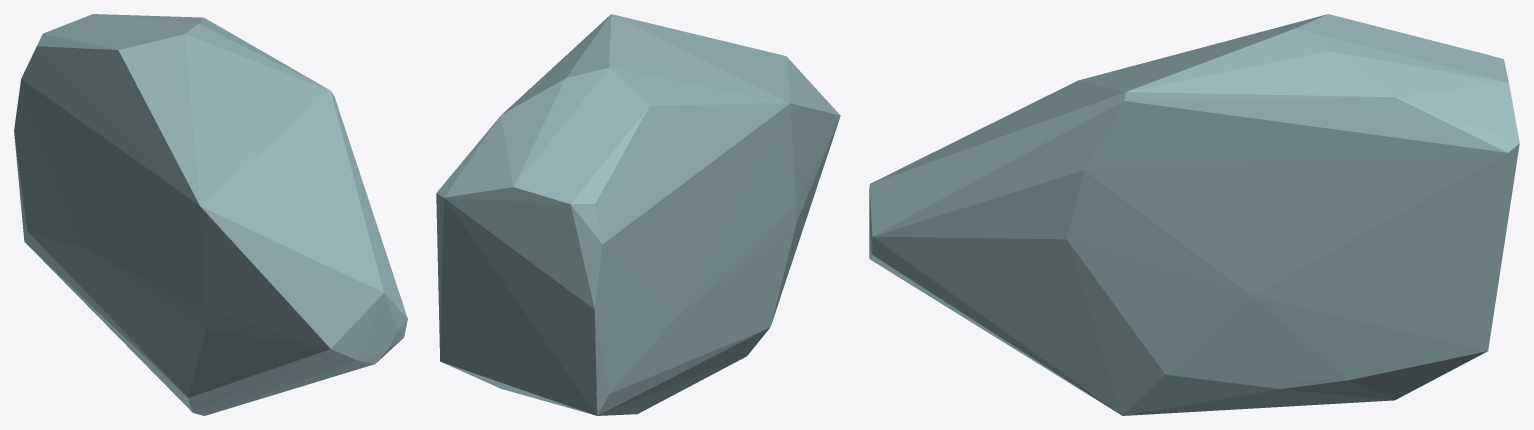
The model's file is food_beverage_rumBottle_a01.glb.
3 renders of one model, left to right at view 1: azimuth 30°, elevation 25°; view 2: azimuth 150°, elevation 25°; view 3: azimuth 270°, elevation 25°, orthographic. The views are drawn at different scales.
Parts seen in each view (by area): view 1: geometry_0; view 2: geometry_0; view 3: geometry_0.
Boxes of the visible parts, <box> form: geometry_0: <box>14,14,407,415</box>; geometry_0: <box>436,14,840,415</box>; geometry_0: <box>869,14,1519,415</box>.
Size of the model in its own units: 0.148 by 0.2729 by 0.4385.
